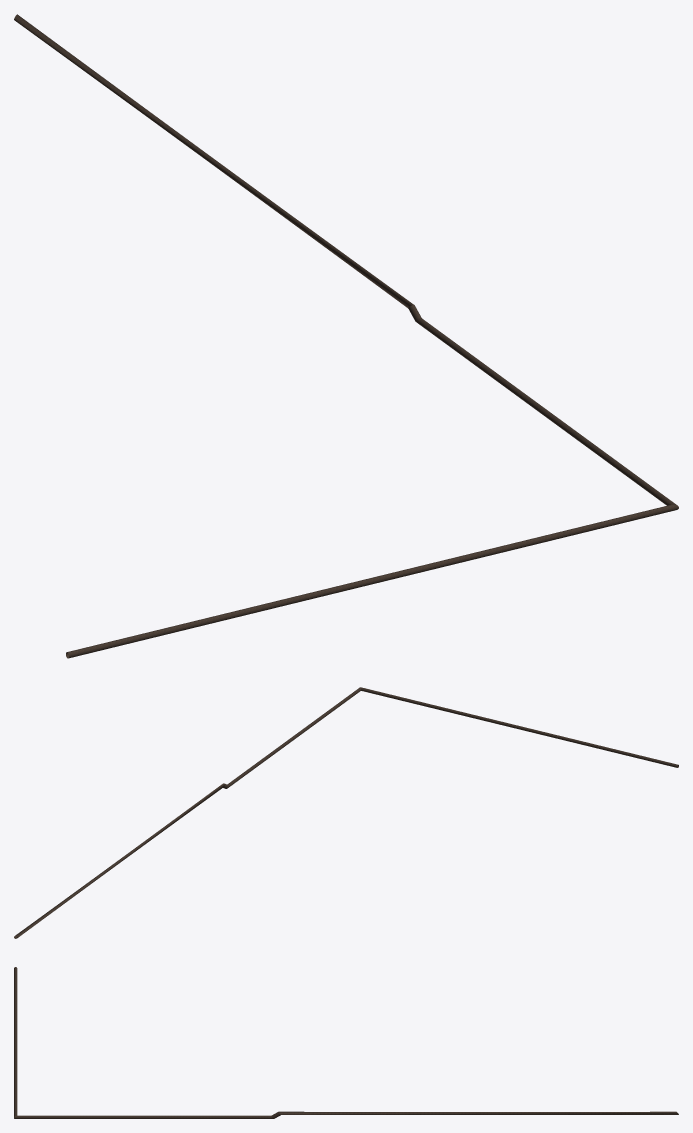
Rendered from border1.fbx.
The picture shows the model from 3 angles, top to bottom: view 1: azimuth 30°, elevation 25°; view 2: azimuth 150°, elevation 25°; view 3: azimuth 270°, elevation 25°; orthographic projection. The views are drawn at different scales.
Parts seen in each view (by area): view 1: Cylinder.002; view 2: Cylinder.002; view 3: Cylinder.002.
Part boxes in pixels (left/top/right/bottom): Cylinder.002: left=14, top=14, right=678, bottom=658; Cylinder.002: left=14, top=687, right=678, bottom=938; Cylinder.002: left=14, top=967, right=678, bottom=1118.
Size of the model in its own units: 54 by 1.16 by 101.
